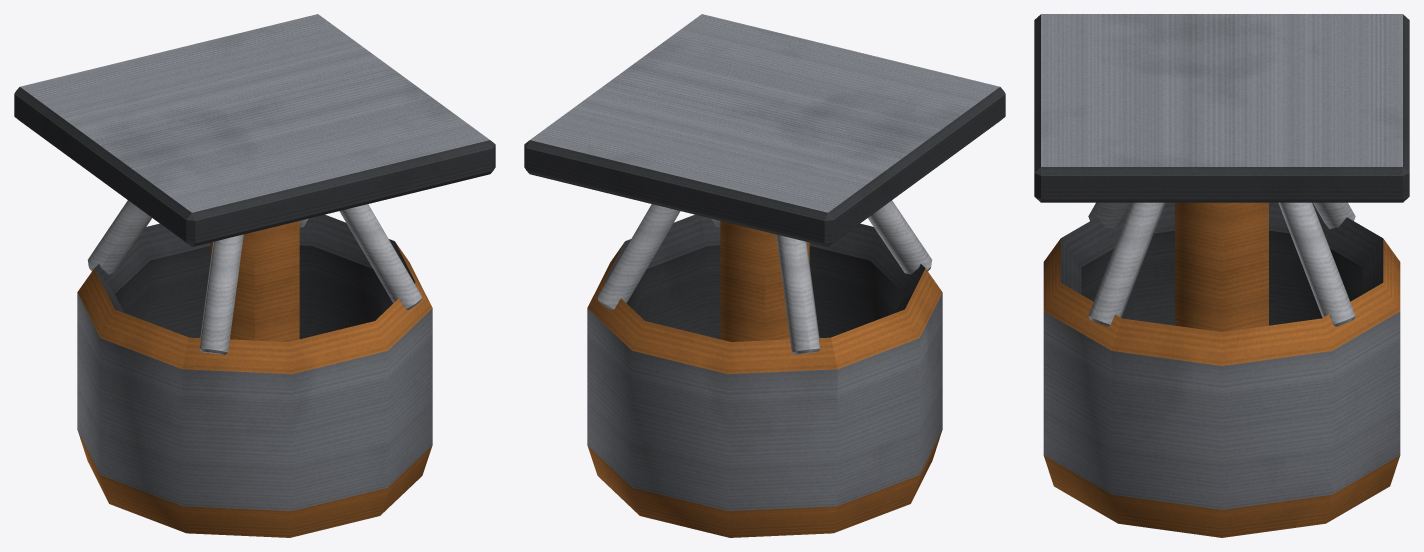
File: R4M_HoverEngine_LOD1.glb
The picture shows the model from 3 angles, left to right: view 1: azimuth 30°, elevation 25°; view 2: azimuth 150°, elevation 25°; view 3: azimuth 270°, elevation 25°; orthographic projection. The views are drawn at different scales.
Visible parts, largest first — view 1: R4M_HoverEngine_LOD1; view 2: R4M_HoverEngine_LOD1; view 3: R4M_HoverEngine_LOD1.
Boxes of the visible parts, <box> form: R4M_HoverEngine_LOD1: <box>14,14,495,537</box>; R4M_HoverEngine_LOD1: <box>524,14,1005,537</box>; R4M_HoverEngine_LOD1: <box>1034,14,1409,537</box>.
Bounding box in the file's own units: 0.52 × 0.577 × 0.52.
Materials: 5 (4 with a texture image).
